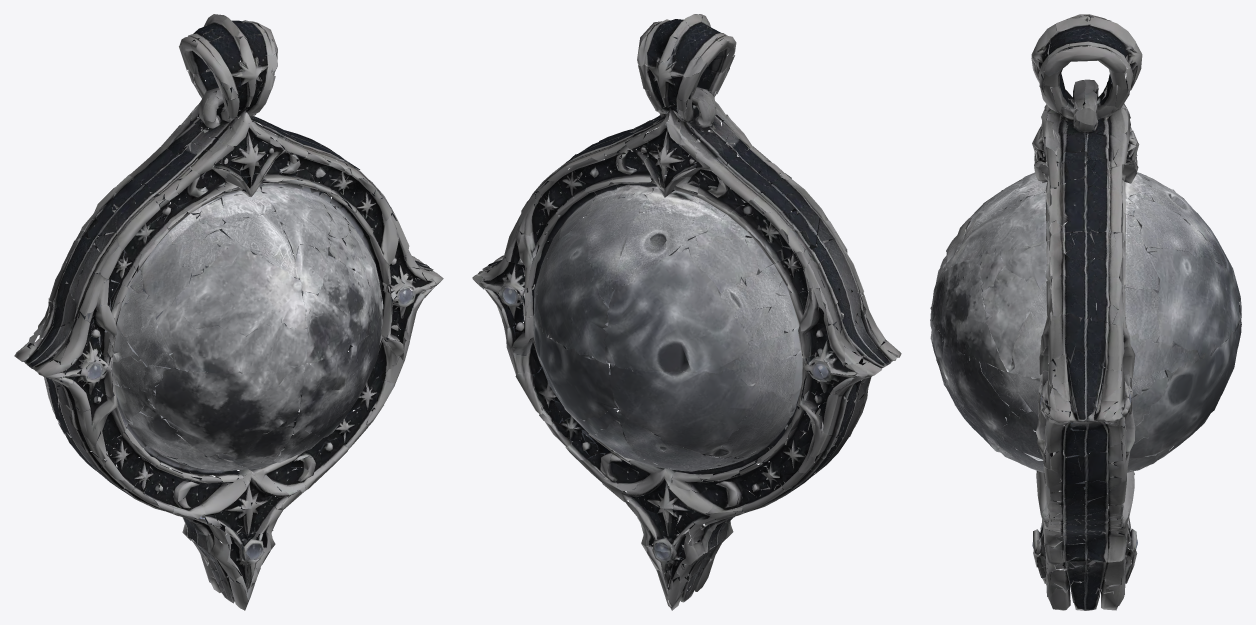
The model's file is talisman-moon.glb.
3 views of the same model, side by side, from view 1: azimuth 30°, elevation 25°; view 2: azimuth 150°, elevation 25°; view 3: azimuth 270°, elevation 25° (orthographic). The views are drawn at different scales.
Visible parts, largest first — view 1: Mesh_0; view 2: Mesh_0; view 3: Mesh_0.
Part boxes in pixels (x1=…): Mesh_0: x1=14, y1=14, x2=443, y2=610; Mesh_0: x1=472, y1=14, x2=901, y2=610; Mesh_0: x1=930, y1=14, x2=1241, y2=610.
Bounding box in the file's own units: 1.38 × 1.9 × 0.9046.
1 material, 1 textured.
